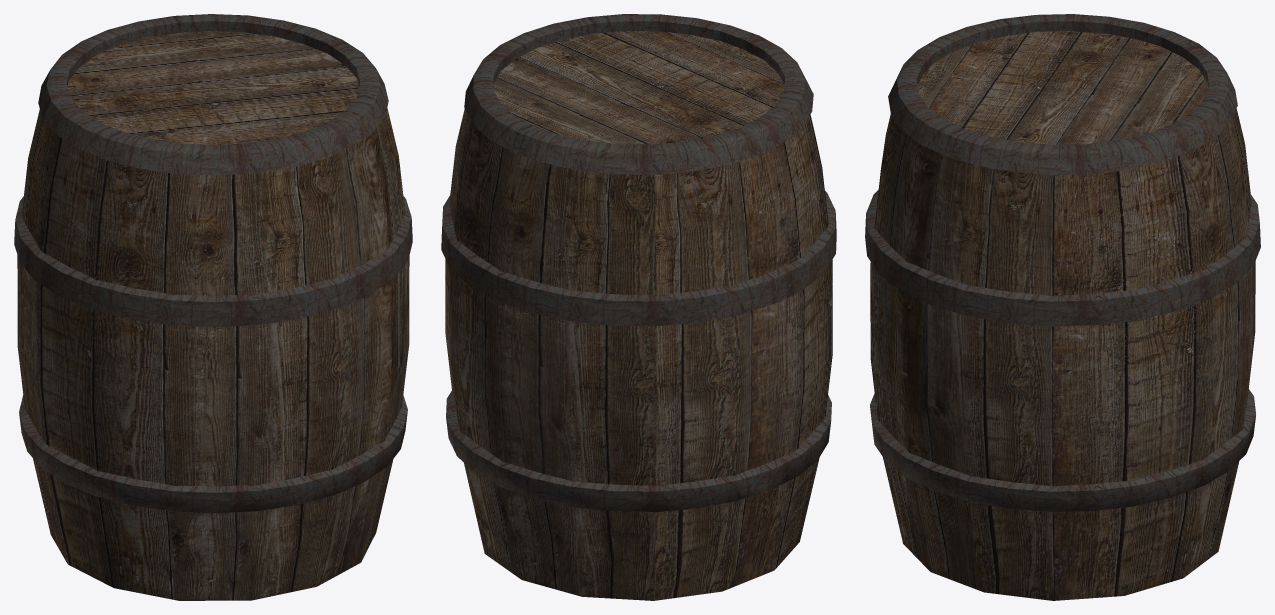
The model's file is barel.fbx.
The picture shows the model from 3 angles, left to right: view 1: azimuth 30°, elevation 25°; view 2: azimuth 150°, elevation 25°; view 3: azimuth 270°, elevation 25°; orthographic projection.
Parts seen in each view (by area): view 1: barel_LOD0; view 2: barel_LOD0; view 3: barel_LOD0.
Part boxes in pixels (bbox=[...]): barel_LOD0: bbox=[14, 14, 412, 600]; barel_LOD0: bbox=[441, 14, 836, 600]; barel_LOD0: bbox=[865, 14, 1260, 600].
Size of what is drawn, in the model's own units: 1.19 by 1.49 by 1.19.
